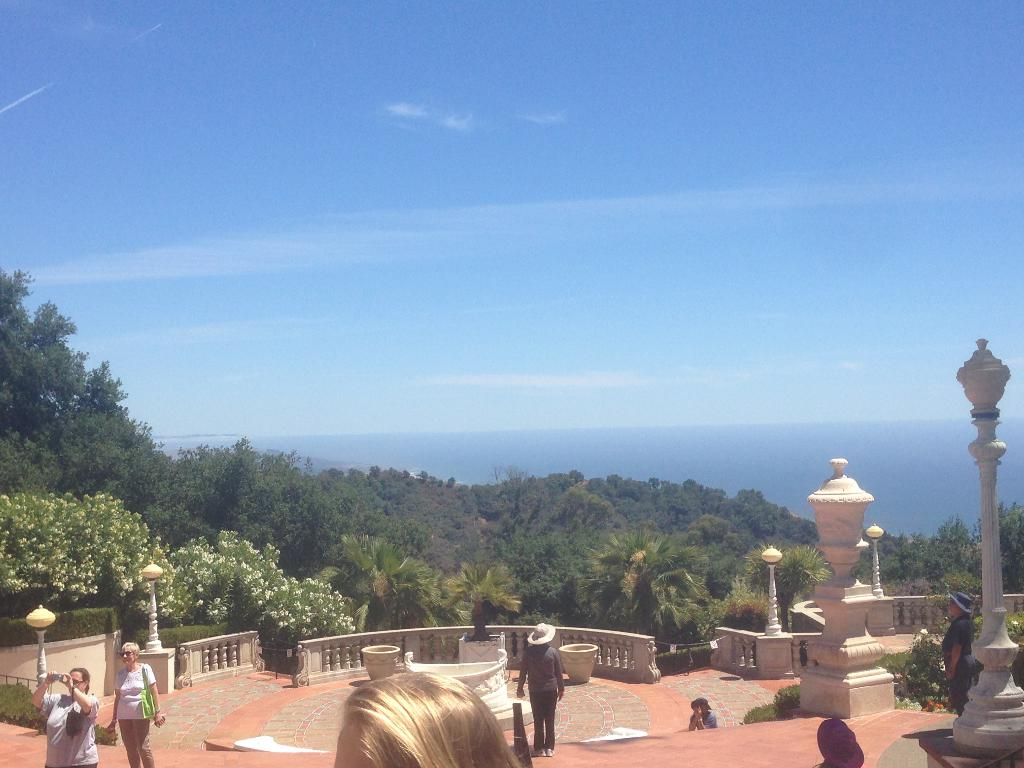Human-face: (72, 669, 86, 691), (120, 644, 134, 666)
